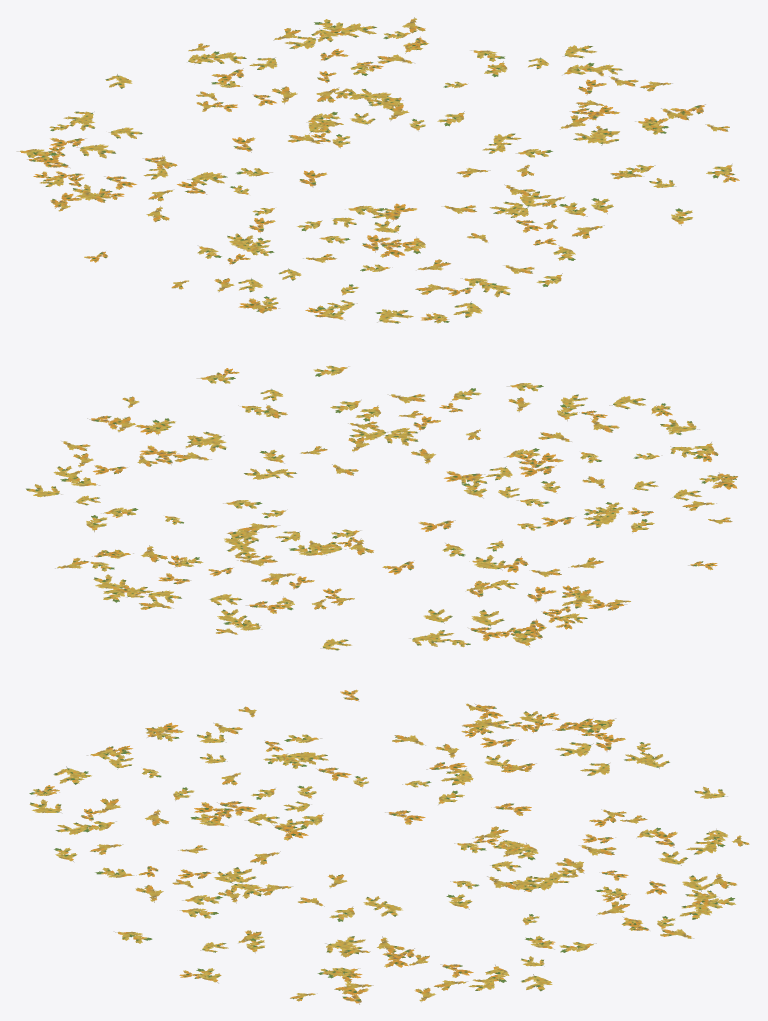
Rendered from bouleau_adulte_a.fbx.
3 renders of one model, top to bottom at view 1: azimuth 30°, elevation 25°; view 2: azimuth 150°, elevation 25°; view 3: azimuth 270°, elevation 25°, orthographic. The views are drawn at different scales.
Parts seen in each view (by area): view 1: bouleau_adulte_a_feuilles_sol; view 2: bouleau_adulte_a_feuilles_sol; view 3: bouleau_adulte_a_feuilles_sol.
Boxes of the visible parts, left/top/right/bottom form: bouleau_adulte_a_feuilles_sol: left=16, top=17, right=739, bottom=323; bouleau_adulte_a_feuilles_sol: left=26, top=365, right=737, bottom=650; bouleau_adulte_a_feuilles_sol: left=29, top=689, right=749, bottom=1004.
Size of what is drawn, in the model's own units: 7 by 0.00589 by 6.79.
